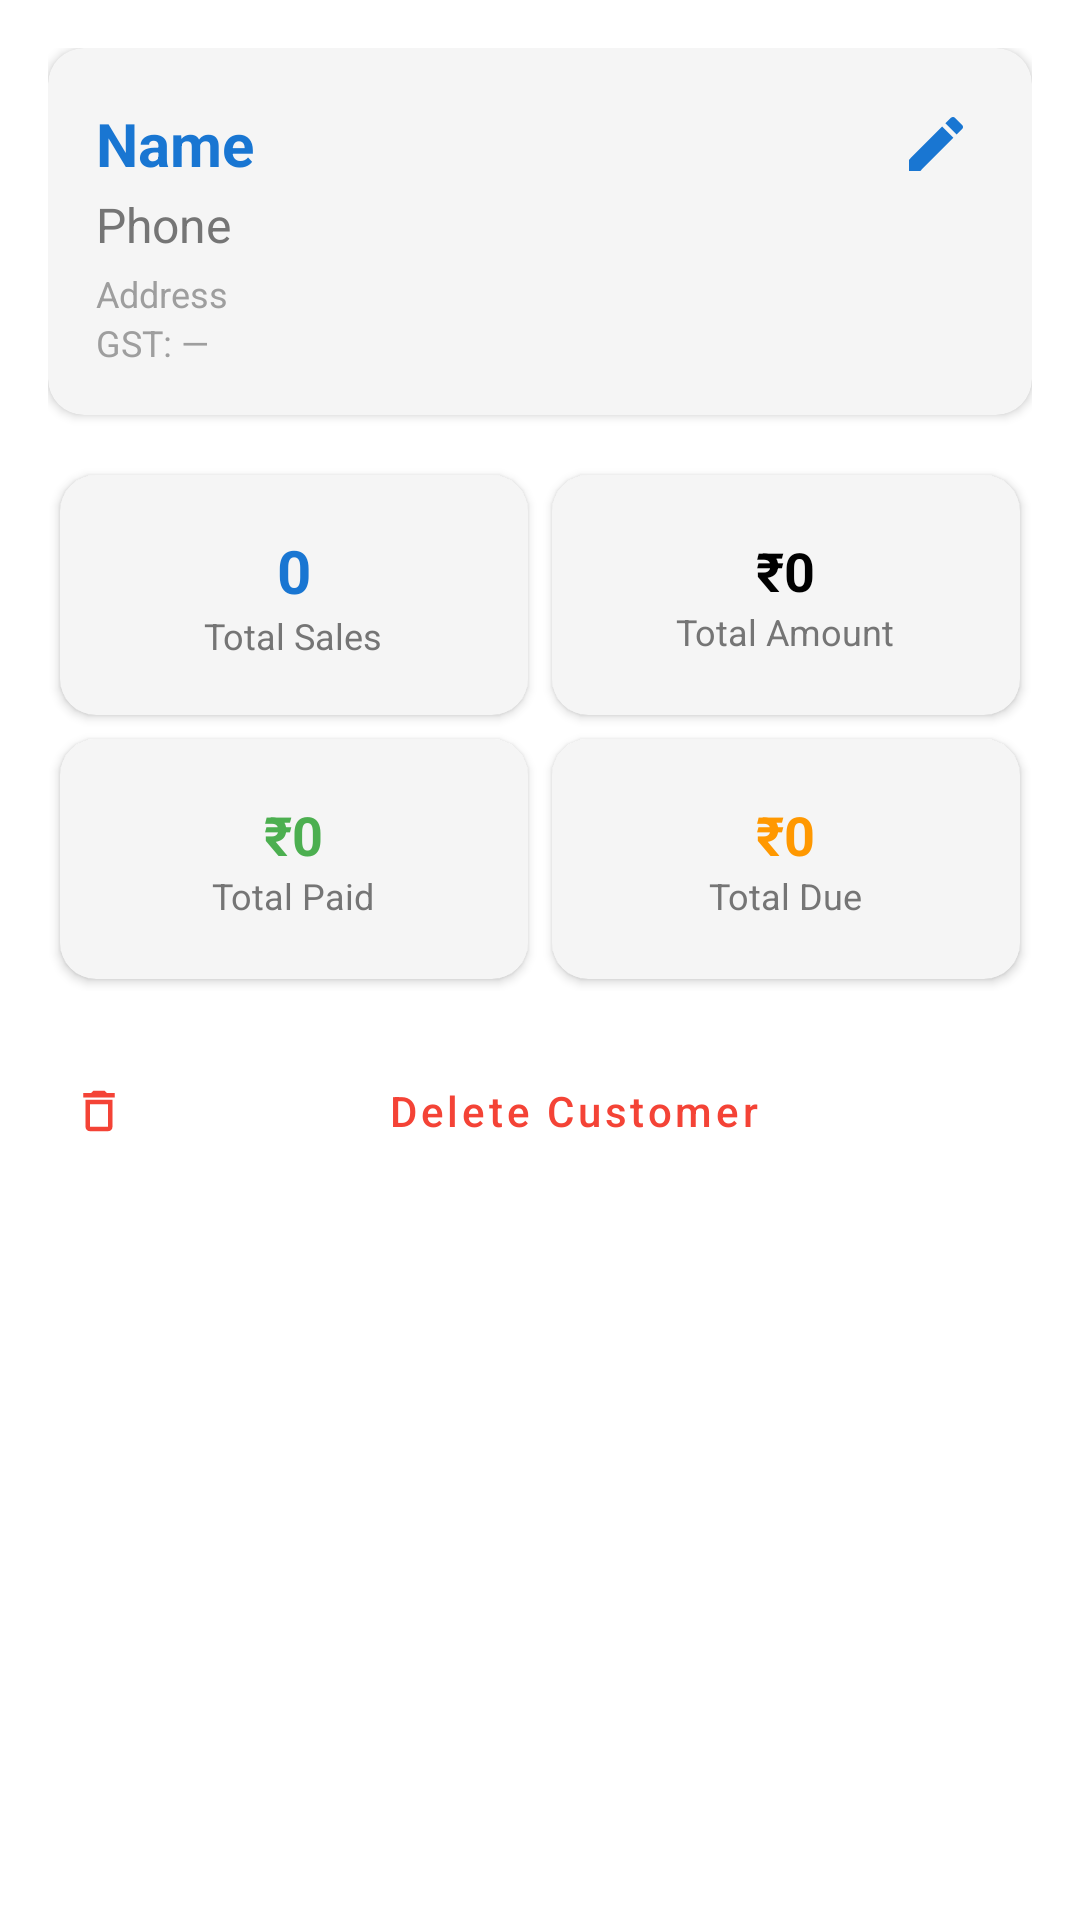

Icons on this 1080x1920 Android screen, each with the point to tap as point (x, y):
edit: point (936, 144)
